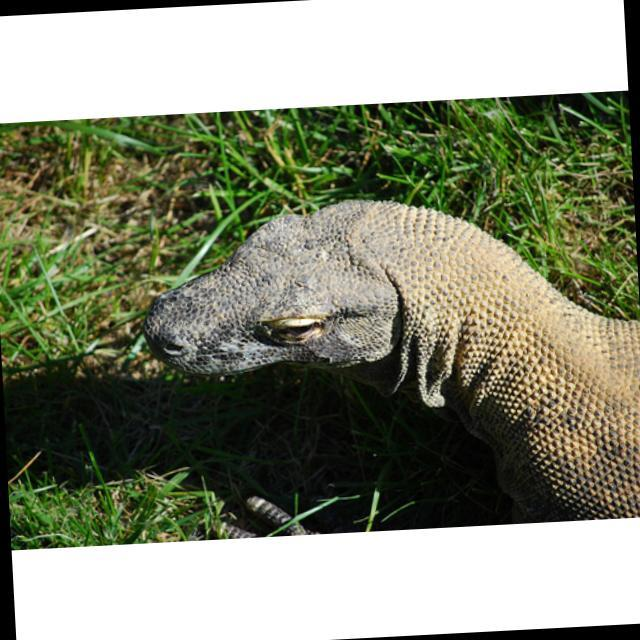KomodoDragon: (135, 182, 640, 540)
